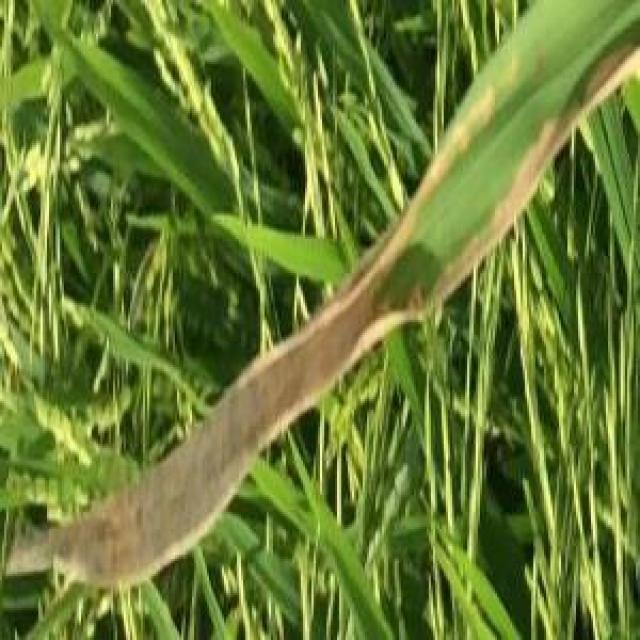Bacterial_Blight: (7, 51, 640, 582), (2, 108, 495, 581)
